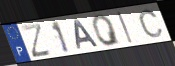1: (50, 20, 73, 54)
A: (73, 18, 100, 51)
C: (138, 9, 165, 39)
I: (116, 10, 135, 45)
Q: (90, 13, 123, 48)
Z: (19, 21, 53, 59)
